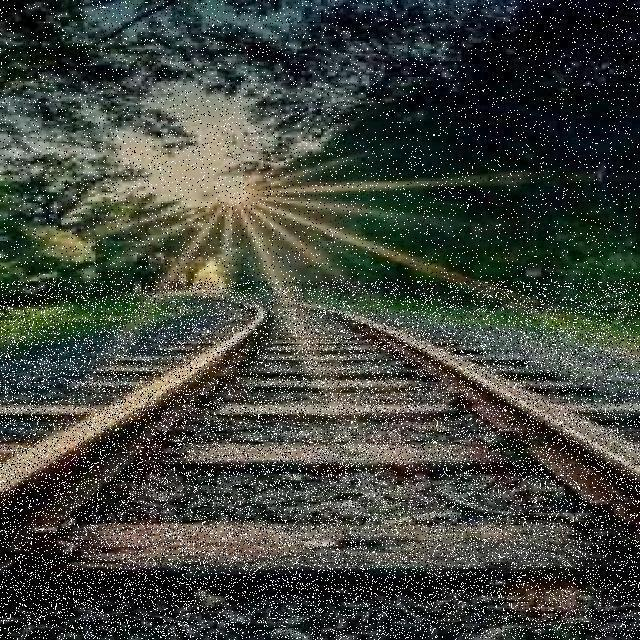rail: (1, 283, 640, 640)
